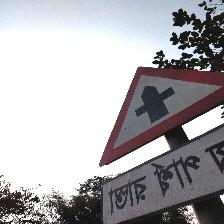Crossroad: (93, 56, 224, 224)
